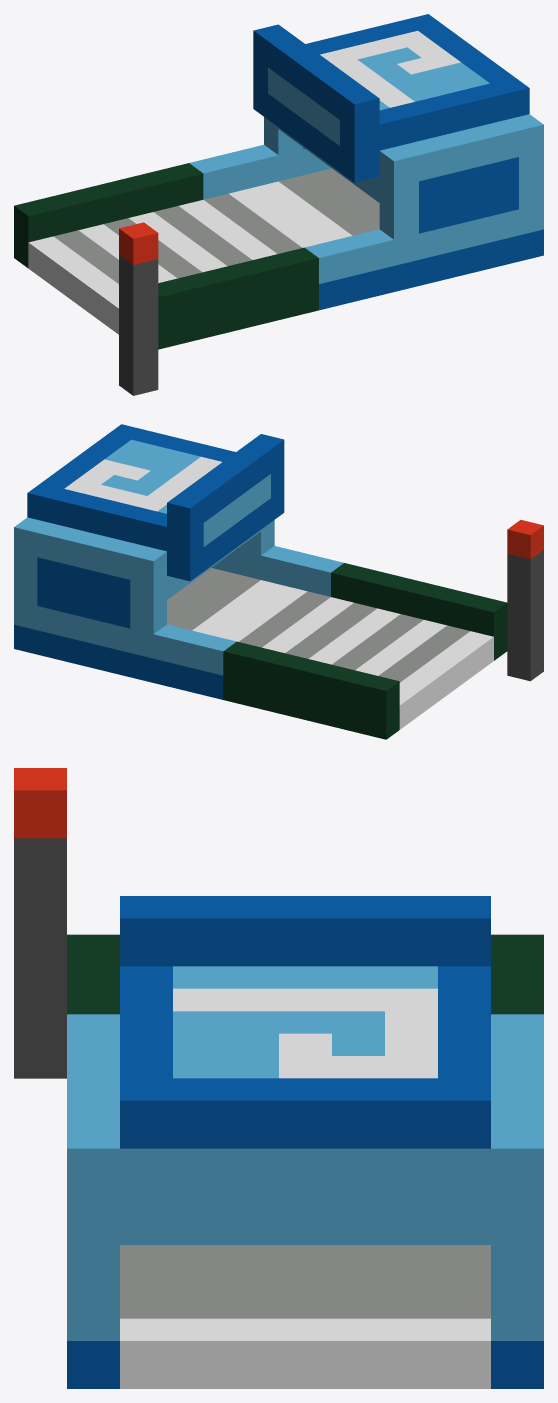
Rendered from PlasticOnLoad.gltf.
3 renders of one model, top to bottom at view 1: azimuth 30°, elevation 25°; view 2: azimuth 150°, elevation 25°; view 3: azimuth 270°, elevation 25°, orthographic. The views are drawn at different scales.
Bounding box in the file's own units: 1.7 × 0.8 × 1.
Materials: 1 (1 with a texture image).
